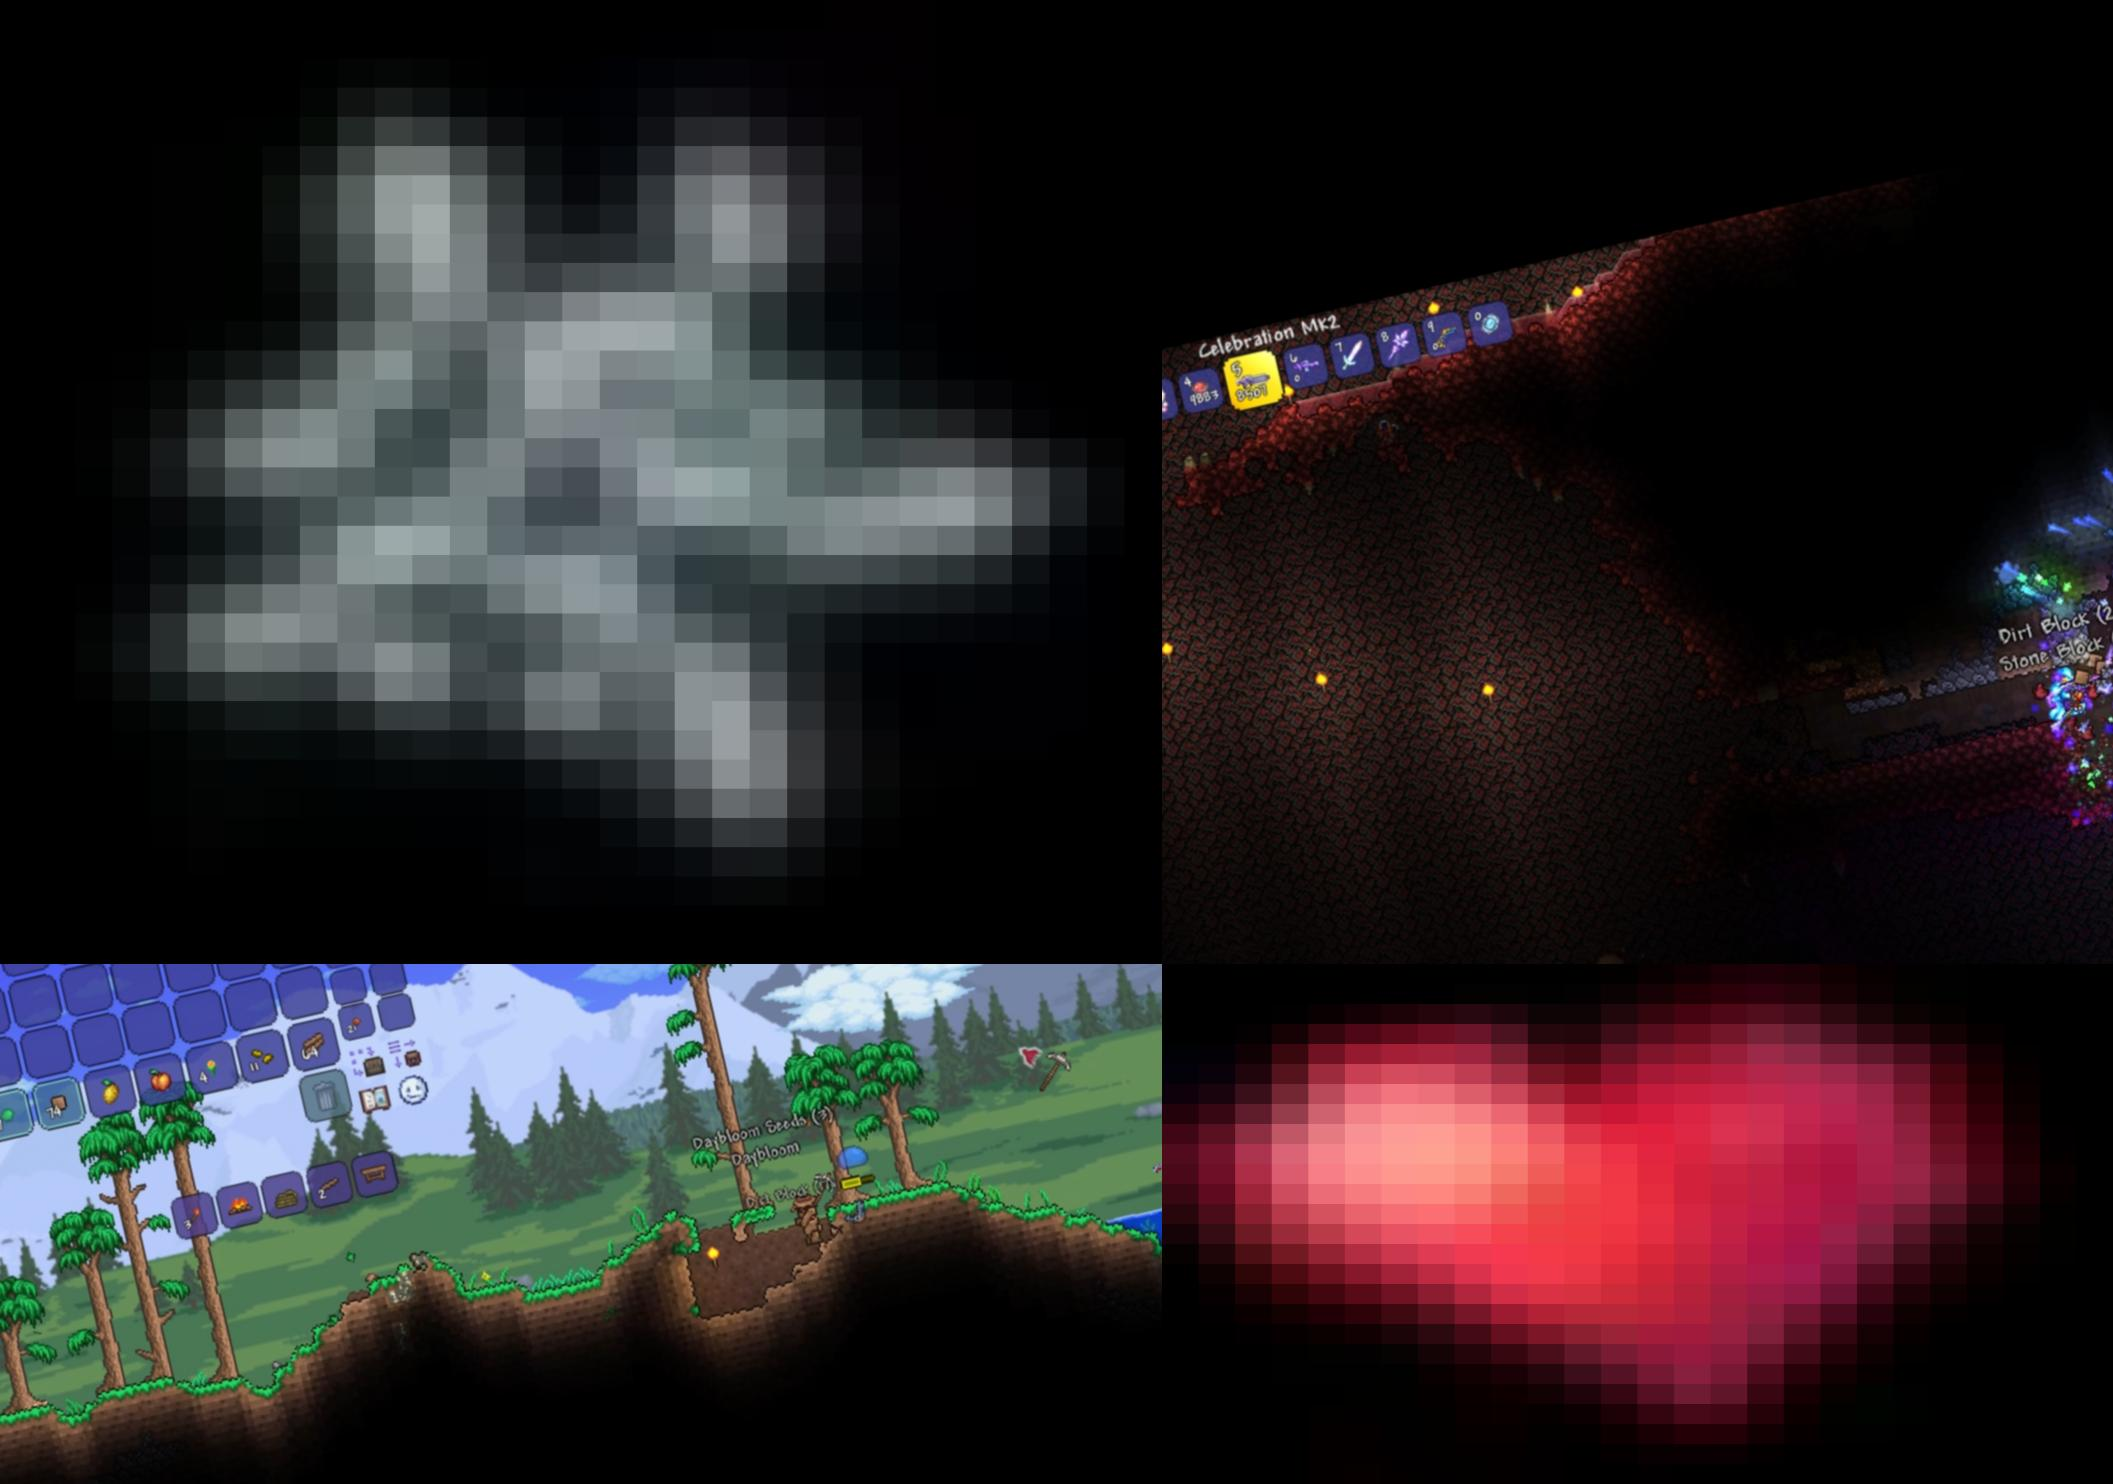cobwebI: (0, 0, 1162, 964)
heart: (1162, 964, 2113, 1484)
mirror: (1474, 305, 1508, 339)
slime: (832, 1135, 873, 1174)
